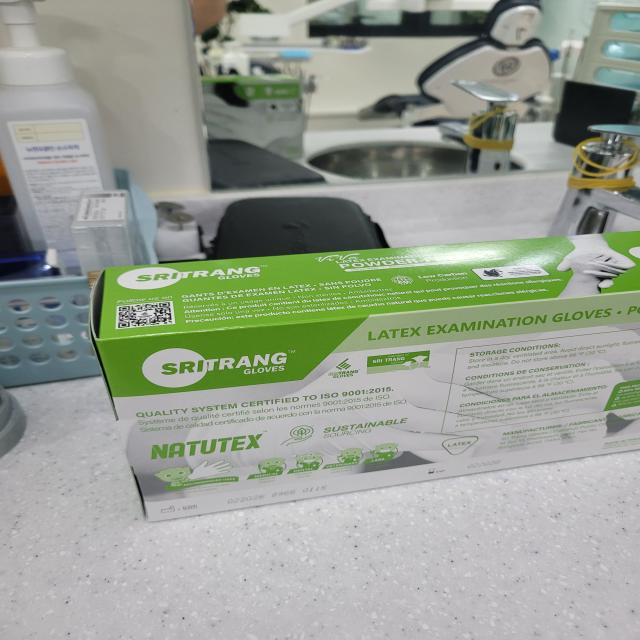glove: (61, 230, 640, 530)
